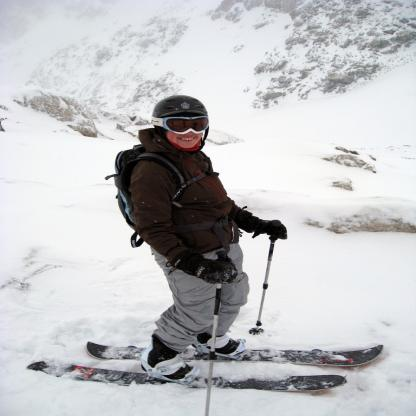Helmet: (146, 93, 209, 146)
